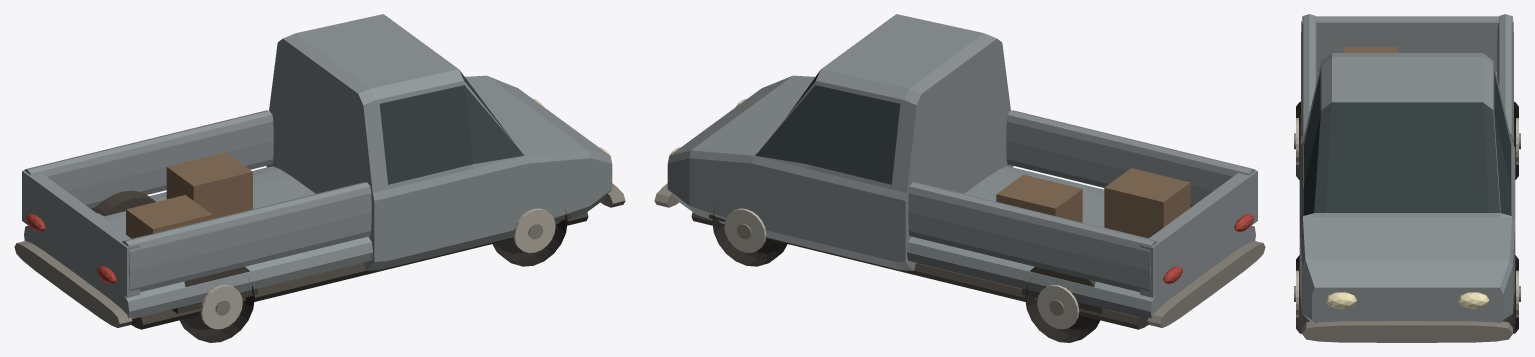
File: pikap-gri.glb
The picture shows the model from 3 angles, left to right: view 1: azimuth 30°, elevation 25°; view 2: azimuth 150°, elevation 25°; view 3: azimuth 270°, elevation 25°; orthographic projection.
Visible parts, largest first — view 1: a_gri, cam, ahsap, ic, tampon, jant, lastik, stop; view 2: a_gri, cam, ahsap, tampon, ic, jant, lastik, stop; view 3: a_gri, cam, tampon, lastik, far, jant, ahsap.
Boxes of the visible parts, x1,y1,x2,y2 form: a_gri: [22, 14, 612, 318]; cam: [379, 70, 523, 184]; ahsap: [126, 152, 252, 238]; ic: [91, 190, 588, 329]; tampon: [14, 183, 625, 327]; jant: [200, 208, 555, 329]; lastik: [179, 210, 567, 342]; stop: [26, 214, 116, 283]; a_gri: [667, 14, 1257, 318]; cam: [756, 70, 900, 184]; ahsap: [996, 168, 1190, 238]; tampon: [654, 183, 1265, 327]; ic: [691, 212, 1148, 329]; jant: [724, 208, 1079, 329]; lastik: [712, 210, 1100, 342]; stop: [1163, 214, 1253, 283]; a_gri: [1299, 14, 1515, 322]; cam: [1303, 72, 1511, 215]; tampon: [1294, 133, 1520, 342]; lastik: [1296, 101, 1518, 333]; far: [1325, 292, 1489, 308]; jant: [1296, 118, 1518, 317]; ahsap: [1343, 47, 1397, 52].
Bounding box in the file's own units: 4.8 × 1.82 × 1.85.
